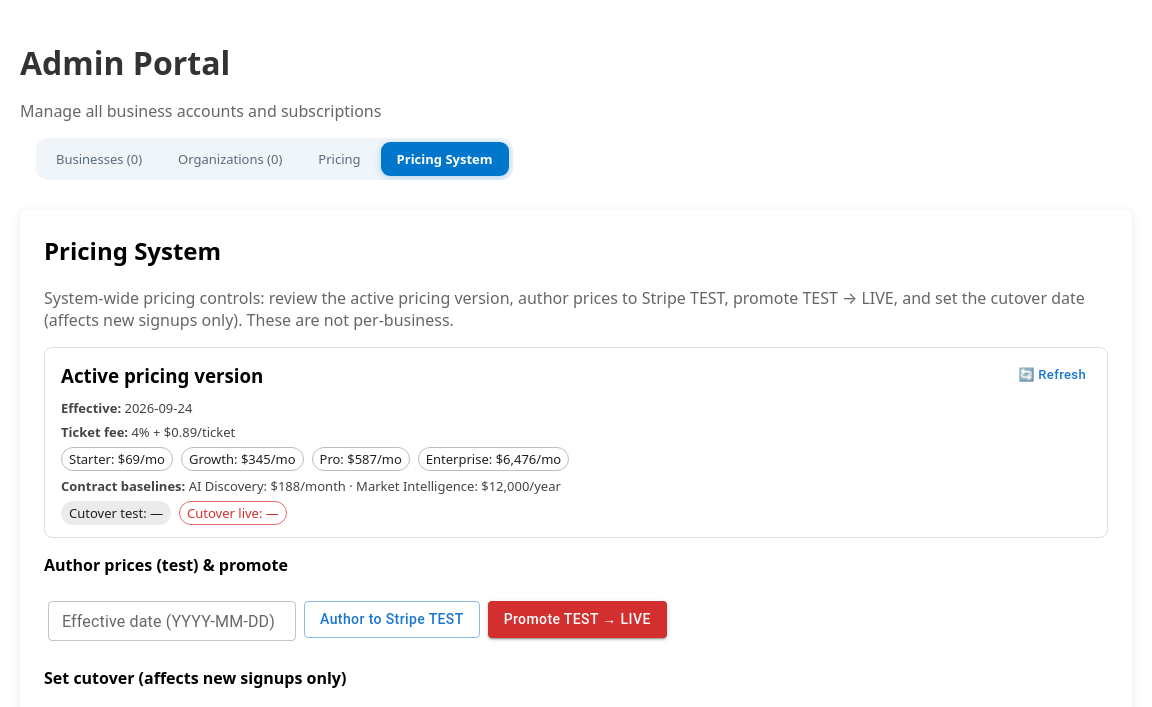
Test: AdminPortal — Pricing Console gating › Pricing System tab: Promote TEST → LIVE requires confirmation before firing
Check: the heading "Admin Portal" is shown, box [20,41,230,84]
Click the button "Pricing System". click: click(445, 159)
box: [381,142,509,176]
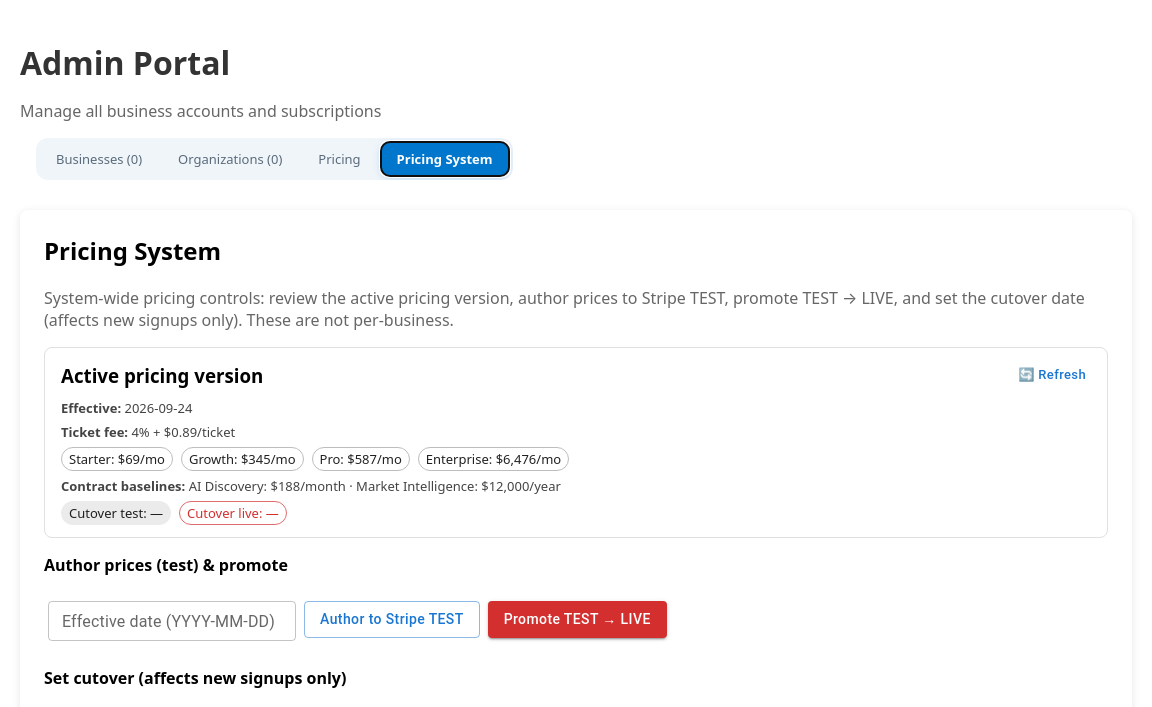
Type "2026-09-06" into the field with test id "author-date-input". click: (172, 621)
box: [48,601,296,641]
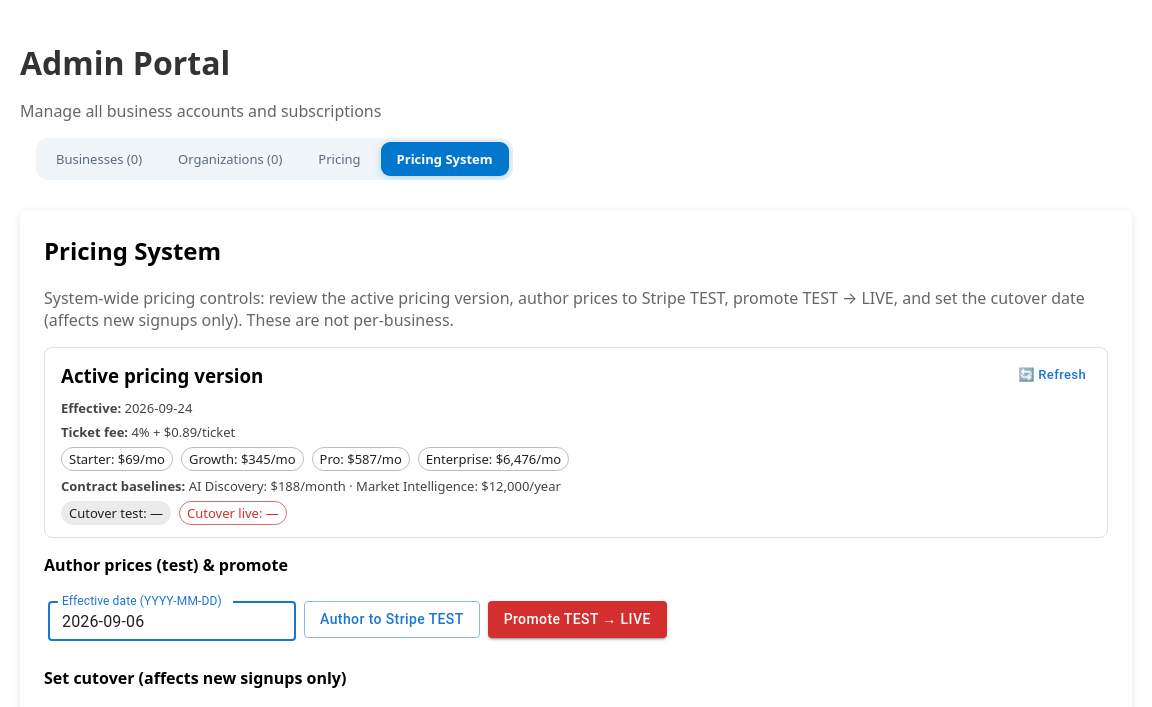
Click the button with test id "promote-btn". click: click(577, 620)
box: [488,601,667,638]
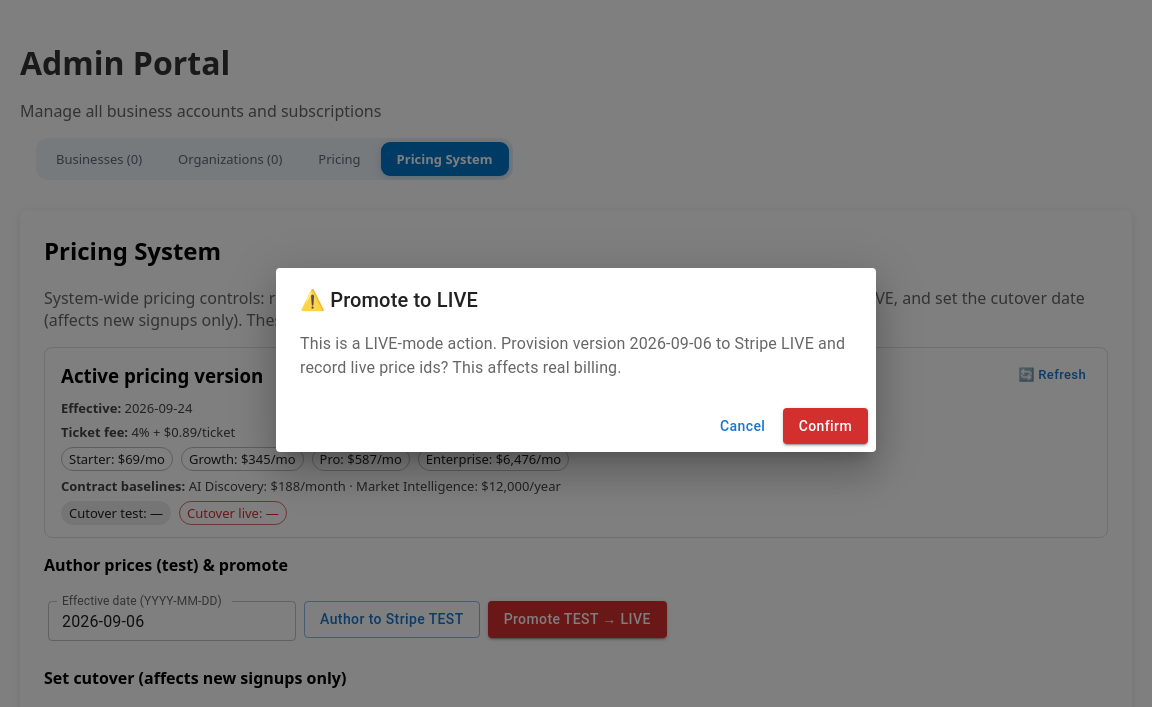
Check: the heading "⚠️ Promote to LIVE" is shown, box [300,288,478,312]
